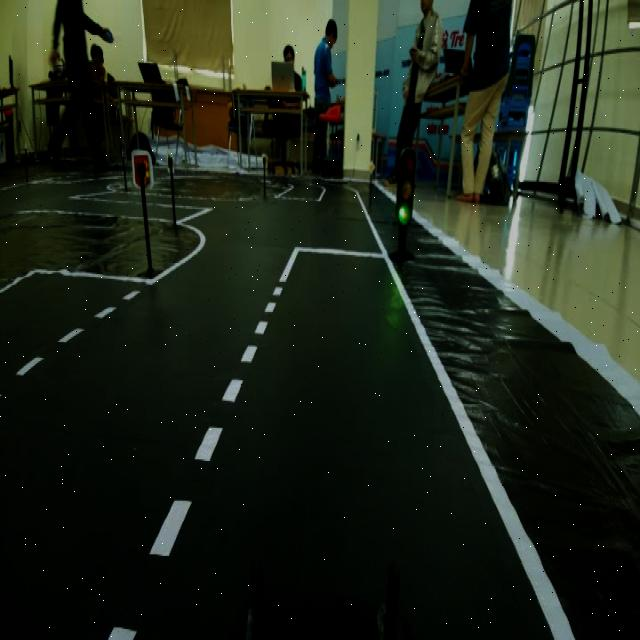trafficlight: (387, 138, 425, 274)
